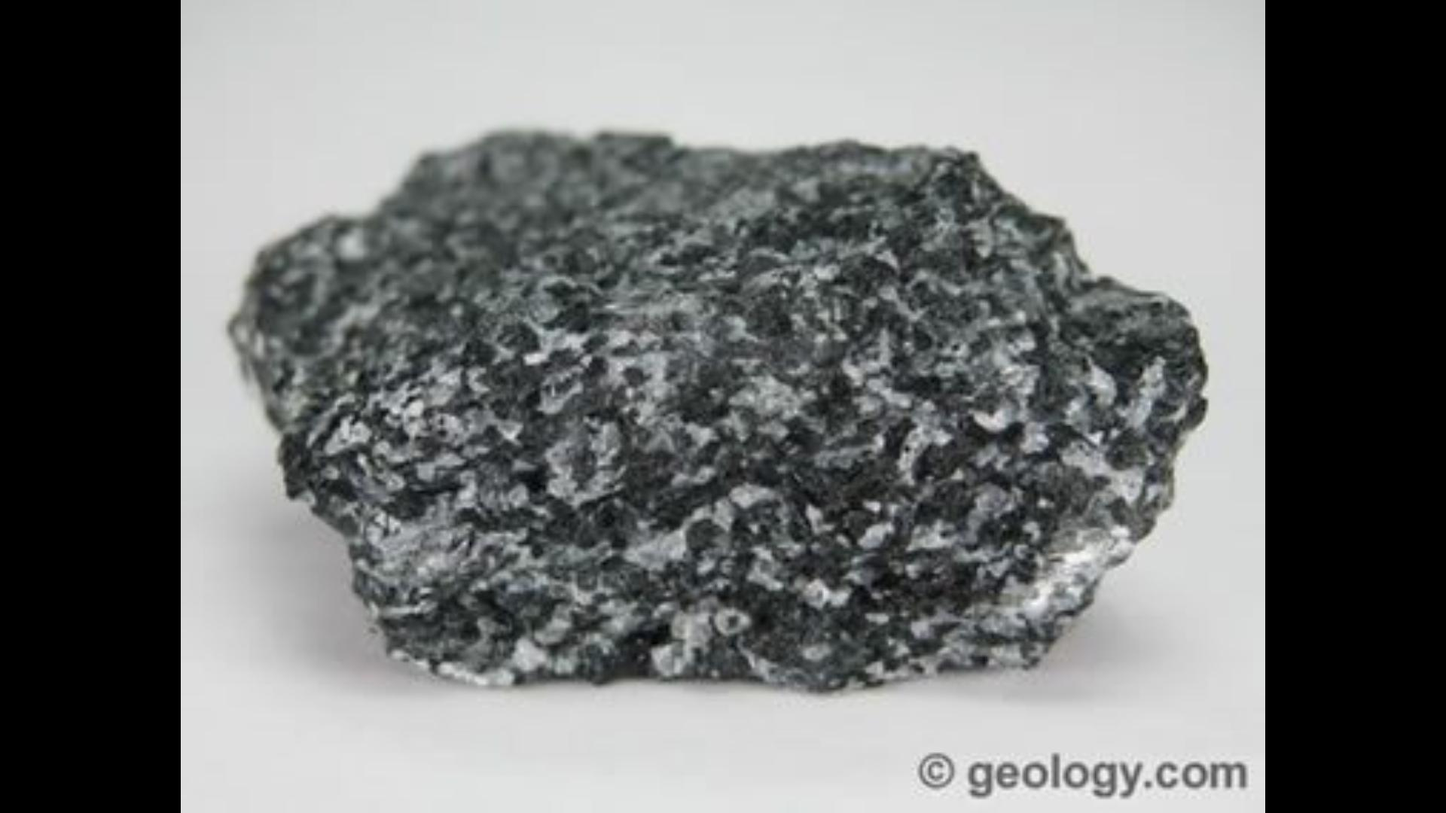rock: (232, 131, 1205, 685)
